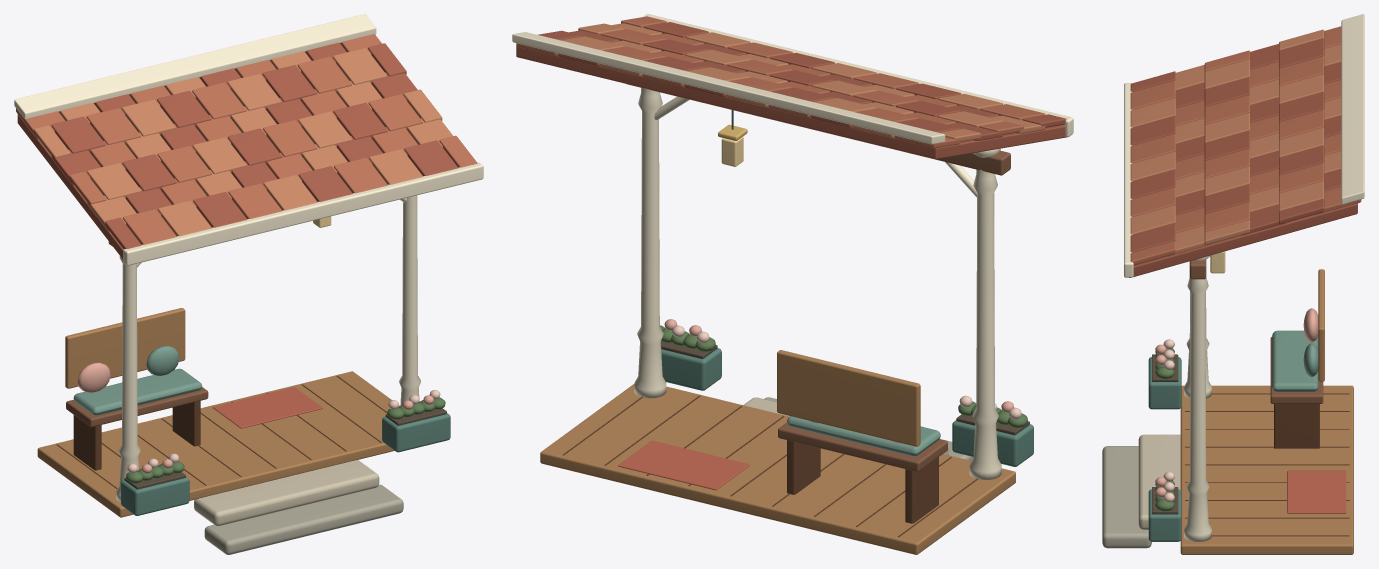
The model's file is front_porch.glb.
3 renders of one model, left to right at view 1: azimuth 30°, elevation 25°; view 2: azimuth 150°, elevation 25°; view 3: azimuth 270°, elevation 25°, orthographic. The views are drawn at different scales.
Parts seen in each view (by area): view 1: Porch_woodLight, Porch_trim, Porch_roofShade, Porch_roofLight, Porch_roof, Porch_stone, Porch_stoneLight, Porch_teal, Porch_woodDark, Porch_cushion, Porch_clothCheck, Porch_wood (+4 smaller); view 2: Porch_woodLight, Porch_trim, Porch_roofShade, Porch_roof, Porch_roofLight, Porch_woodDark, Porch_wood, Porch_teal, Porch_clothCheck, Porch_cushion, Porch_leaf, Porch_soil; view 3: Porch_woodLight, Porch_roofShade, Porch_roofLight, Porch_roof, Porch_trim, Porch_stone, Porch_woodDark, Porch_clothCheck, Porch_stoneLight, Porch_cushion, Porch_teal, Porch_wood (+5 smaller).
Boxes of the visible parts, x1,y1,x2,y2 form: Porch_woodLight: [37, 308, 399, 517]; Porch_trim: [14, 14, 483, 501]; Porch_roofShade: [17, 42, 457, 258]; Porch_roofLight: [34, 48, 453, 236]; Porch_roof: [16, 34, 477, 244]; Porch_stone: [204, 484, 403, 554]; Porch_stoneLight: [194, 460, 379, 525]; Porch_teal: [121, 413, 450, 515]; Porch_woodDark: [56, 376, 387, 488]; Porch_cushion: [73, 368, 202, 415]; Porch_clothCheck: [212, 387, 322, 428]; Porch_wood: [66, 241, 208, 427]; Porch_woodLight: [540, 350, 1015, 554]; Porch_trim: [512, 14, 1073, 479]; Porch_roofShade: [516, 22, 1066, 159]; Porch_roof: [516, 16, 1045, 148]; Porch_roofLight: [561, 23, 1045, 141]; Porch_woodDark: [563, 395, 977, 537]; Porch_wood: [627, 84, 1010, 471]; Porch_teal: [661, 348, 1033, 466]; Porch_clothCheck: [618, 440, 749, 490]; Porch_cushion: [787, 416, 940, 456]; Porch_leaf: [660, 325, 1027, 427]; Porch_soil: [661, 341, 1029, 435]; Porch_woodLight: [1180, 269, 1353, 554]; Porch_roofShade: [1129, 38, 1357, 277]; Porch_roofLight: [1130, 29, 1341, 256]; Porch_roof: [1130, 26, 1361, 265]; Porch_trim: [1124, 14, 1364, 541]; Porch_stone: [1102, 446, 1151, 548]; Porch_woodDark: [1185, 393, 1349, 536]; Porch_clothCheck: [1287, 470, 1346, 513]; Porch_stoneLight: [1138, 434, 1180, 529]; Porch_cushion: [1272, 330, 1318, 391]; Porch_teal: [1148, 357, 1181, 541]; Porch_wood: [1189, 259, 1323, 403].
Bounding box in the file's own units: 2.6 × 2.69 × 1.59.
